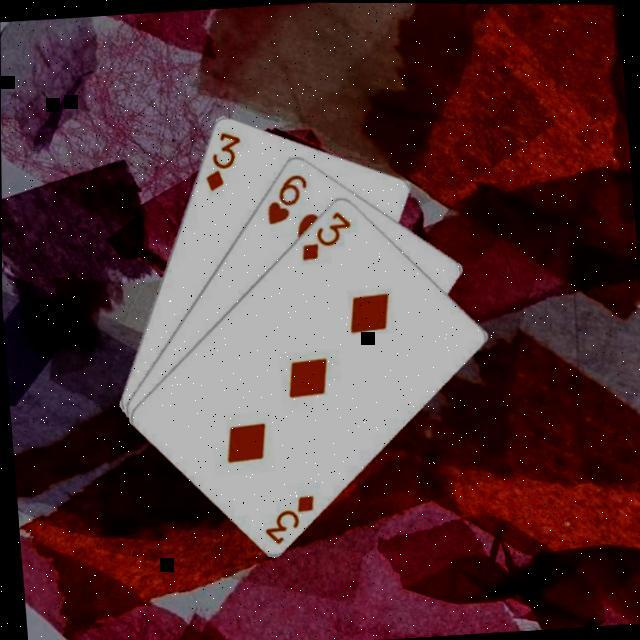3D: (296, 205, 358, 262), (258, 489, 320, 545), (199, 126, 247, 193)
6H: (260, 168, 312, 225)
